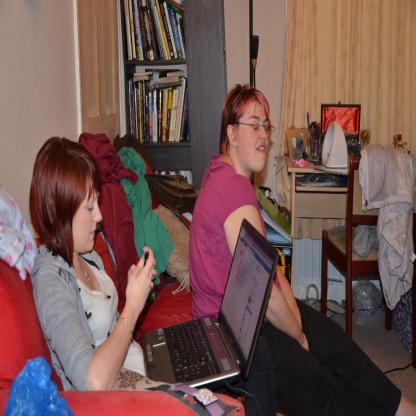board: (136, 240, 274, 397)
